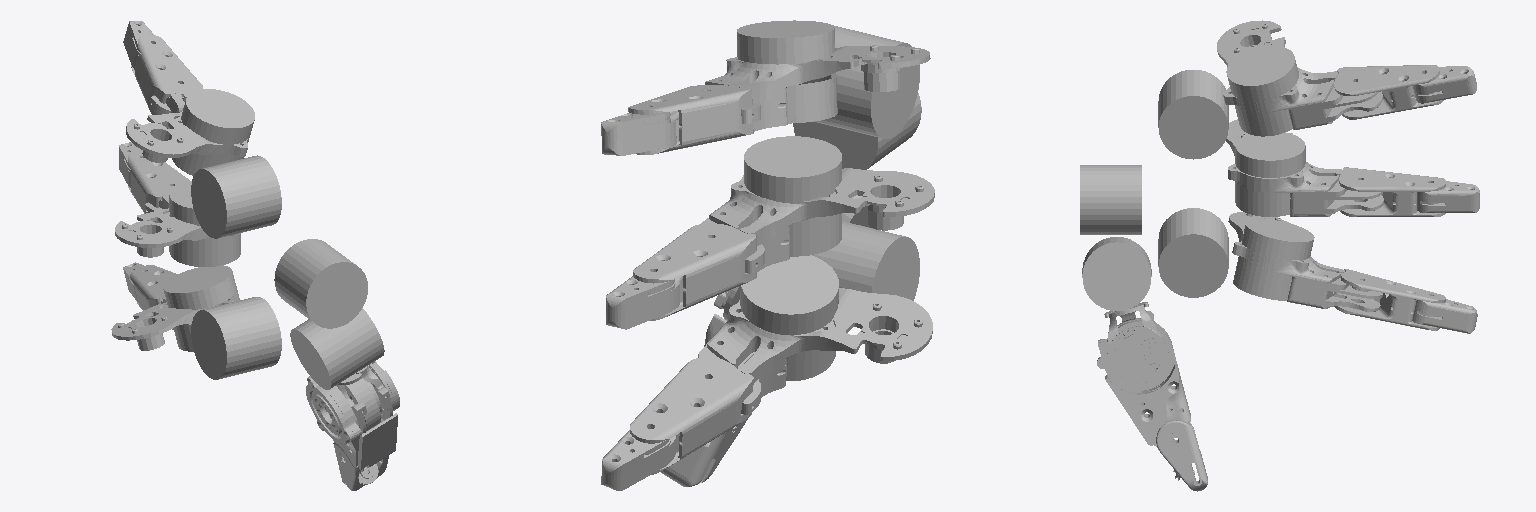
URDF robot description (FINGER_v5_sizing-assem_pitch12):
<?xml version="1.0" encoding="utf-8"?>
<!-- This URDF was automatically created by SolidWorks to URDF Exporter! Originally created by Stephen Brawner (brawner@gmail.com) 
     Commit Version: 1.6.0-1-g15f4949  Build Version: 1.6.7594.29634
     For more information, please see http://wiki.ros.org/sw_urdf_exporter -->
<robot
  name="FINGER_v5_sizing-assem_pitch12">
  <link
    name="base_link">
    <inertial>
      <origin
        xyz="0.00860105152306334 -0.0141519570694045 0.0296070737342074"
        rpy="0 0 0" />
      <mass
        value="1.7031857426844" />
      <inertia
        ixx="0.00637438121223653"
        ixy="0.000485242199718883"
        ixz="-0.000516263504126121"
        iyy="0.00350832245509312"
        iyz="0.000650475729843977"
        izz="0.00395278825365719" />
    </inertial>
  </link>
  <link
    name="Middle_proximal">
    <inertial>
      <origin
        xyz="-0.000981927267422038 -0.00118288474027885 -0.00409749525132446"
        rpy="0 0 0" />
      <mass
        value="0.288831010648449" />
      <inertia
        ixx="4.90009243554783E-05"
        ixy="1.20028398423529E-06"
        ixz="4.6645979238047E-06"
        iyy="5.89438072306371E-05"
        iyz="-1.28558082787641E-06"
        izz="4.76374927083885E-05" />
    </inertial>
    <visual>
      <origin
        xyz="0 0 0"
        rpy="0 0 0" />
      <geometry>
        <mesh
          filename="package://FINGER_v5_sizing-assem_pitch12/meshes/Middle_proximal.STL" />
      </geometry>
      <material
        name="">
        <color
          rgba="0.752941176470588 0.752941176470588 0.752941176470588 1" />
      </material>
    </visual>
    <collision>
      <origin
        xyz="0 0 0"
        rpy="0 0 0" />
      <geometry>
        <mesh
          filename="package://FINGER_v5_sizing-assem_pitch12/meshes/Middle_proximal.STL" />
      </geometry>
    </collision>
  </link>
  <joint
    name="joint_middle_mcp"
    type="continuous">
    <origin
      xyz="0 0 0"
      rpy="1.5707963267949 0 0" />
    <parent
      link="base_link" />
    <child
      link="Middle_proximal" />
    <axis
      xyz="0 -1 0" />
  </joint>
  <link
    name="Middle_intermediate">
    <inertial>
      <origin
        xyz="0.00109471851424856 -0.007615218584167 -0.015725407210472"
        rpy="0 0 0" />
      <mass
        value="0.0500860202087927" />
      <inertia
        ixx="7.12632885057636E-06"
        ixy="-1.13601974871047E-07"
        ixz="1.2183931010913E-06"
        iyy="8.73357675171187E-06"
        iyz="2.72022212475924E-07"
        izz="2.50619587983903E-06" />
    </inertial>
    <visual>
      <origin
        xyz="0 0 0"
        rpy="0 0 0" />
      <geometry>
        <mesh
          filename="package://FINGER_v5_sizing-assem_pitch12/meshes/Middle_intermediate.STL" />
      </geometry>
      <material
        name="">
        <color
          rgba="0.752941176470588 0.752941176470588 0.752941176470588 1" />
      </material>
    </visual>
    <collision>
      <origin
        xyz="0 0 0"
        rpy="0 0 0" />
      <geometry>
        <mesh
          filename="package://FINGER_v5_sizing-assem_pitch12/meshes/Middle_intermediate.STL" />
      </geometry>
    </collision>
  </link>
  <joint
    name="joint_middle_pip"
    type="continuous">
    <origin
      xyz="0.00525 0 -0.045"
      rpy="0 0 0" />
    <parent
      link="Middle_proximal" />
    <child
      link="Middle_intermediate" />
    <axis
      xyz="0 -1 0" />
  </joint>
  <link
    name="Middle_distal">
    <inertial>
      <origin
        xyz="0.00224835392808172 -0.00751920558965082 -0.00730424720410121"
        rpy="0 0 0" />
      <mass
        value="0.00400007586211099" />
      <inertia
        ixx="3.14335687984186E-07"
        ixy="-2.01111489431765E-10"
        ixz="4.17008720457605E-08"
        iyy="3.58210340684352E-07"
        iyz="-8.65736450908562E-10"
        izz="7.84068085780495E-08" />
    </inertial>
    <visual>
      <origin
        xyz="0 0 0"
        rpy="0 0 0" />
      <geometry>
        <mesh
          filename="package://FINGER_v5_sizing-assem_pitch12/meshes/Middle_distal.STL" />
      </geometry>
      <material
        name="">
        <color
          rgba="0.752941176470588 0.752941176470588 0.752941176470588 1" />
      </material>
    </visual>
    <collision>
      <origin
        xyz="0 0 0"
        rpy="0 0 0" />
      <geometry>
        <mesh
          filename="package://FINGER_v5_sizing-assem_pitch12/meshes/Middle_distal.STL" />
      </geometry>
    </collision>
  </link>
  <joint
    name="joint_middle_dip"
    type="continuous">
    <origin
      xyz="0.0035 0 -0.035"
      rpy="0 0 0" />
    <parent
      link="Middle_intermediate" />
    <child
      link="Middle_distal" />
    <axis
      xyz="0 -1 0" />
  </joint>
  <link name="Middle_empty_link"/>
  <joint
    name="joint_middle_tip"
    type="fixed">
    <origin
      xyz="0.00894408611145471 -0.007455932639021592 -0.022166606735296"
      rpy="3.14159265358979 0 0" />
    <parent
      link="Middle_distal" />
    <child
      link="Middle_empty_link" />
  </joint>  
  <link
    name="Index_aa-mcp">
    <inertial>
      <origin
        xyz="-0.00549999999999999 6.93889390390723E-18 -6.93889390390723E-18"
        rpy="0 0 0" />
      <mass
        value="0.229656313463639" />
      <inertia
        ixx="3.51661229991198E-05"
        ixy="-1.20381699579111E-37"
        ixz="0"
        iyy="3.5974704602773E-05"
        iyz="-1.34303183898664E-37"
        izz="3.5974704602773E-05" />
    </inertial>
    <visual>
      <origin
        xyz="0 0 0"
        rpy="0 0 0" />
      <geometry>
        <mesh
          filename="package://FINGER_v5_sizing-assem_pitch12/meshes/Index_aa-mcp.STL" />
      </geometry>
      <material
        name="">
        <color
          rgba="0.752941176470588 0.752941176470588 0.752941176470588 1" />
      </material>
    </visual>
    <collision>
      <origin
        xyz="0 0 0"
        rpy="0 0 0" />
      <geometry>
        <mesh
          filename="package://FINGER_v5_sizing-assem_pitch12/meshes/Index_aa-mcp.STL" />
      </geometry>
    </collision>
  </link>
  <joint
    name="joint_index_abad"
    type="continuous">
    <origin
      xyz="0 -0.03825 -0.0454"
      rpy="1.5708 0 0" />
    <parent
      link="base_link" />
    <child
      link="Index_aa-mcp" />
    <axis
      xyz="-1 0 0" />
  </joint>
  <link
    name="Index_proximal">
    <inertial>
      <origin
        xyz="-0.000186801820474308 0.00576118003666944 -0.0040974981064293"
        rpy="0 0 0" />
      <mass
        value="0.288831054681236" />
      <inertia
        ixx="4.90009306145828E-05"
        ixy="1.20028740222791E-06"
        ixz="4.6645967323778E-06"
        iyy="5.89438140958065E-05"
        iyz="-1.28557791631543E-06"
        izz="4.76374960597971E-05" />
    </inertial>
    <visual>
      <origin
        xyz="0 0 0"
        rpy="0 0 0" />
      <geometry>
        <mesh
          filename="package://FINGER_v5_sizing-assem_pitch12/meshes/Index_proximal.STL" />
      </geometry>
      <material
        name="">
        <color
          rgba="0.752941176470588 0.752941176470588 0.752941176470588 1" />
      </material>
    </visual>
    <collision>
      <origin
        xyz="0 0 0"
        rpy="0 0 0" />
      <geometry>
        <mesh
          filename="package://FINGER_v5_sizing-assem_pitch12/meshes/Index_proximal.STL" />
      </geometry>
    </collision>
  </link>
  <joint
    name="joint_index_mcp"
    type="continuous">
    <origin
      xyz="0.0010063 -0.0080134 -0.038467"
      rpy="-0.20684 0.013708 0.15765" />
    <parent
      link="Index_aa-mcp" />
    <child
      link="Index_proximal" />
    <axis
      xyz="0 -1 0" />
  </joint>
  <link
    name="Index_intermediate">
    <inertial>
      <origin
        xyz="-0.000155281449584964 -0.000671138519678371 -0.0157253762240998"
        rpy="0 0 0" />
      <mass
        value="0.0500857495081431" />
      <inertia
        ixx="7.12627940568398E-06"
        ixy="-1.13605887215094E-07"
        ixz="1.21838733953495E-06"
        iyy="8.73354651778297E-06"
        iyz="2.72021285749039E-07"
        izz="2.50620136401079E-06" />
    </inertial>
    <visual>
      <origin
        xyz="0 0 0"
        rpy="0 0 0" />
      <geometry>
        <mesh
          filename="package://FINGER_v5_sizing-assem_pitch12/meshes/Index_intermediate.STL" />
      </geometry>
      <material
        name="">
        <color
          rgba="0.752941176470588 0.752941176470588 0.752941176470588 1" />
      </material>
    </visual>
    <collision>
      <origin
        xyz="0 0 0"
        rpy="0 0 0" />
      <geometry>
        <mesh
          filename="package://FINGER_v5_sizing-assem_pitch12/meshes/Index_intermediate.STL" />
      </geometry>
    </collision>
  </link>
  <joint
    name="joint_index_pip"
    type="continuous">
    <origin
      xyz="0.0065 0 -0.045"
      rpy="0 0 0" />
    <parent
      link="Index_proximal" />
    <child
      link="Index_intermediate" />
    <axis
      xyz="0 -1 0" />
  </joint>
  <link
    name="Index_distal">
    <inertial>
      <origin
        xyz="0.000998357047771771 -0.000575143964769431 -0.0073042485641565"
        rpy="0 0 0" />
      <mass
        value="0.00400007550058822" />
      <inertia
        ixx="3.14335559068873E-07"
        ixy="-2.01049226487287E-10"
        ixz="4.17009165876003E-08"
        iyy="3.58210408523272E-07"
        iyz="-8.65755967650734E-10"
        izz="7.84068752499178E-08" />
    </inertial>
    <visual>
      <origin
        xyz="0 0 0"
        rpy="0 0 0" />
      <geometry>
        <mesh
          filename="package://FINGER_v5_sizing-assem_pitch12/meshes/Index_distal.STL" />
      </geometry>
      <material
        name="">
        <color
          rgba="0.752941176470588 0.752941176470588 0.752941176470588 1" />
      </material>
    </visual>
    <collision>
      <origin
        xyz="0 0 0"
        rpy="0 0 0" />
      <geometry>
        <mesh
          filename="package://FINGER_v5_sizing-assem_pitch12/meshes/Index_distal.STL" />
      </geometry>
    </collision>
  </link>
  <joint
    name="joint_index_dip"
    type="continuous">
    <origin
      xyz="0.0035 0 -0.035"
      rpy="0 0 0" />
    <parent
      link="Index_intermediate" />
    <child
      link="Index_distal" />
    <axis
      xyz="0 -1 0" />
  </joint>
  <link name="Index_empty_link"/>
  <joint
    name="joint_index_tip"
    type="fixed">
    <origin
      xyz="0.00694408611145471 -0.000455932639021592 -0.022166606735296"
      rpy="3.14159265358979 0 0" />
    <parent
      link="Index_distal" />
    <child
      link="Index_empty_link" />
  </joint>
  <link
    name="Ring_aa-mcp">
    <inertial>
      <origin
        xyz="-0.00549999999999999 0 -6.93889390390723E-18"
        rpy="0 0 0" />
      <mass
        value="0.229656313463639" />
      <inertia
        ixx="3.51661229991198E-05"
        ixy="-1.20381699579111E-37"
        ixz="0"
        iyy="3.5974704602773E-05"
        iyz="-1.34303183898664E-37"
        izz="3.5974704602773E-05" />
    </inertial>
    <visual>
      <origin
        xyz="0 0 0"
        rpy="0 0 0" />
      <geometry>
        <mesh
          filename="package://FINGER_v5_sizing-assem_pitch12/meshes/Ring_aa-mcp.STL" />
      </geometry>
      <material
        name="">
        <color
          rgba="0.752941176470588 0.752941176470588 0.752941176470588 1" />
      </material>
    </visual>
    <collision>
      <origin
        xyz="0 0 0"
        rpy="0 0 0" />
      <geometry>
        <mesh
          filename="package://FINGER_v5_sizing-assem_pitch12/meshes/Ring_aa-mcp.STL" />
      </geometry>
    </collision>
  </link>
  <joint
    name="joint_ring_abad"
    type="continuous">
    <origin
      xyz="0 -0.03825 0.0306"
      rpy="1.5708 0 0" />
    <parent
      link="base_link" />
    <child
      link="Ring_aa-mcp" />
    <axis
      xyz="1 0 0" />
  </joint>
  <link
    name="Ring_proximal">
    <inertial>
      <origin
        xyz="-0.000186802984341679 0.00787304798055018 -0.00409749583481214"
        rpy="0 0 0" />
      <mass
        value="0.288830999940464" />
      <inertia
        ixx="4.90009198625242E-05"
        ixy="1.20028265137785E-06"
        ixz="4.66459557895379E-06"
        iyy="5.89438026556999E-05"
        iyz="-1.28558062048071E-06"
        izz="4.76374913045715E-05" />
    </inertial>
    <visual>
      <origin
        xyz="0 0 0"
        rpy="0 0 0" />
      <geometry>
        <mesh
          filename="package://FINGER_v5_sizing-assem_pitch12/meshes/Ring_proximal.STL" />
      </geometry>
      <material
        name="">
        <color
          rgba="0.752941176470588 0.752941176470588 0.752941176470588 1" />
      </material>
    </visual>
    <collision>
      <origin
        xyz="0 0 0"
        rpy="0 0 0" />
      <geometry>
        <mesh
          filename="package://FINGER_v5_sizing-assem_pitch12/meshes/Ring_proximal.STL" />
      </geometry>
    </collision>
  </link>
  <joint
    name="joint_ring_mcp"
    type="continuous">
    <origin
      xyz="0.0010063 0.0080134 -0.038467"
      rpy="0.20684 0.013708 -0.15765" />
    <parent
      link="Ring_aa-mcp" />
    <child
      link="Ring_proximal" />
    <axis
      xyz="0 -1 0" />
  </joint>
  <link
    name="Ring_intermediate">
    <inertial>
      <origin
        xyz="-0.000155281943769873 0.0014407348367643 -0.0157253618712702"
        rpy="0 0 0" />
      <mass
        value="0.0500856769025358" />
      <inertia
        ixx="7.1262676018086E-06"
        ixy="-1.1360763130753E-07"
        ixz="1.21838316786941E-06"
        iyy="8.73353773290069E-06"
        iyz="2.72022495576507E-07"
        izz="2.50620048939057E-06" />
    </inertial>
    <visual>
      <origin
        xyz="0 0 0"
        rpy="0 0 0" />
      <geometry>
        <mesh
          filename="package://FINGER_v5_sizing-assem_pitch12/meshes/Ring_intermediate.STL" />
      </geometry>
      <material
        name="">
        <color
          rgba="0.752941176470588 0.752941176470588 0.752941176470588 1" />
      </material>
    </visual>
    <collision>
      <origin
        xyz="0 0 0"
        rpy="0 0 0" />
      <geometry>
        <mesh
          filename="package://FINGER_v5_sizing-assem_pitch12/meshes/Ring_intermediate.STL" />
      </geometry>
    </collision>
  </link>
  <joint
    name="joint_ring_pip"
    type="continuous">
    <origin
      xyz="0.0065 0 -0.045"
      rpy="0 0 0" />
    <parent
      link="Ring_proximal" />
    <child
      link="Ring_intermediate" />
    <axis
      xyz="0 -1 0" />
  </joint>
  <link
    name="Ring_distal">
    <inertial>
      <origin
        xyz="0.000998352572938415 0.00153673129024125 -0.00730424773483374"
        rpy="0 0 0" />
      <mass
        value="0.00400007580283605" />
      <inertia
        ixx="3.14335653380412E-07"
        ixy="-2.01161713675385E-10"
        ixz="4.17008706371233E-08"
        iyy="3.58210226279045E-07"
        iyz="-8.65731928950345E-10"
        izz="7.84067883048751E-08" />
    </inertial>
    <visual>
      <origin
        xyz="0 0 0"
        rpy="0 0 0" />
      <geometry>
        <mesh
          filename="package://FINGER_v5_sizing-assem_pitch12/meshes/Ring_distal.STL" />
      </geometry>
      <material
        name="">
        <color
          rgba="0.752941176470588 0.752941176470588 0.752941176470588 1" />
      </material>
    </visual>
    <collision>
      <origin
        xyz="0 0 0"
        rpy="0 0 0" />
      <geometry>
        <mesh
          filename="package://FINGER_v5_sizing-assem_pitch12/meshes/Ring_distal.STL" />
      </geometry>
    </collision>
  </link>
  <joint
    name="joint_ring_dip"
    type="continuous">
    <origin
      xyz="0.0035 0 -0.035"
      rpy="0 0 0" />
    <parent
      link="Ring_intermediate" />
    <child
      link="Ring_distal" />
    <axis
      xyz="0 -1 0" />
  </joint>
  <link
    name="Thumb_metacarpal">
    <inertial>
      <origin
        xyz="0 0 0.0155"
        rpy="0 0 0" />
      <mass
        value="0.229656313463639" />
      <inertia
        ixx="3.5974704602773E-05"
        ixy="6.82502035984864E-38"
        ixz="0"
        iyy="3.5974704602773E-05"
        iyz="-1.325874975781E-37"
        izz="3.51661229991198E-05" />
    </inertial>
    <visual>
      <origin
        xyz="0 0 0"
        rpy="0 0 0" />
      <geometry>
        <mesh
          filename="package://FINGER_v5_sizing-assem_pitch12/meshes/Thumb_metacarpal.STL" />
      </geometry>
      <material
        name="">
        <color
          rgba="0.752941176470588 0.752941176470588 0.752941176470588 1" />
      </material>
    </visual>
    <collision>
      <origin
        xyz="0 0 0"
        rpy="0 0 0" />
      <geometry>
        <mesh
          filename="package://FINGER_v5_sizing-assem_pitch12/meshes/Thumb_metacarpal.STL" />
      </geometry>
    </collision>
  </link>
  <link name="Ring_empty_link"/>
  <joint
    name="joint_ring_tip"
    type="fixed">
    <origin
      xyz="0.00694408611145471 -0.000455932639021592 -0.022166606735296"
      rpy="3.14159265358979 0 0" />
    <parent
      link="Ring_distal" />
    <child
      link="Ring_empty_link" />
  </joint>
  <joint
    name="joint_thumb_yaw"
    type="continuous">
    <origin
      xyz="0.0185 -0.064 -0.005"
      rpy="1.5708 0 0" />
    <parent
      link="base_link" />
    <child
      link="Thumb_metacarpal" />
    <axis
      xyz="0 0 1" />
  </joint>
  <link
    name="Thumb_roll-pitch1">
    <inertial>
      <origin
        xyz="-0.00187938524157176 -0.000684040286651318 1.38777878078145E-17"
        rpy="0 0 0" />
      <mass
        value="0.230339688405611" />
      <inertia
        ixx="3.45650739385213E-05"
        ixy="-8.10085949798749E-07"
        ixz="-3.31977292561599E-21"
        iyy="3.64959196204868E-05"
        iyz="-1.20829852944705E-21"
        izz="3.67907667934108E-05" />
    </inertial>
    <visual>
      <origin
        xyz="0 0 0"
        rpy="0 0 0" />
      <geometry>
        <mesh
          filename="package://FINGER_v5_sizing-assem_pitch12/meshes/Thumb_roll-pitch1.STL" />
      </geometry>
      <material
        name="">
        <color
          rgba="0.752941176470588 0.752941176470588 0.752941176470588 1" />
      </material>
    </visual>
    <collision>
      <origin
        xyz="0 0 0"
        rpy="0 0 0" />
      <geometry>
        <mesh
          filename="package://FINGER_v5_sizing-assem_pitch12/meshes/Thumb_roll-pitch1.STL" />
      </geometry>
    </collision>
  </link>
  <joint
    name="joint_thumb_pitch1"
    type="continuous">
    <origin
      xyz="0.012748 -0.035026 0.012395"
      rpy="0 0 0" />
    <parent
      link="Thumb_metacarpal" />
    <child
      link="Thumb_roll-pitch1" />
    <axis
      xyz="0.93969 0.34202 0" />
  </joint>
  <link
    name="Thumb_proximal">
    <inertial>
      <origin
        xyz="0.0096980306049259 0.000436273754811339 -0.00339432925892027"
        rpy="0 0 0" />
      <mass
        value="0.0889794932922681" />
      <inertia
        ixx="7.84280142150119E-06"
        ixy="-4.10603056694893E-07"
        ixz="-2.27286890167128E-07"
        iyy="9.87701168768263E-06"
        iyz="-1.06565571035376E-07"
        izz="1.65732235650426E-05" />
    </inertial>
    <visual>
      <origin
        xyz="0 0 0"
        rpy="0 0 0" />
      <geometry>
        <mesh
          filename="package://FINGER_v5_sizing-assem_pitch12/meshes/Thumb_proximal.STL" />
      </geometry>
      <material
        name="">
        <color
          rgba="0.752941176470588 0.752941176470588 0.752941176470588 1" />
      </material>
    </visual>
    <collision>
      <origin
        xyz="0 0 0"
        rpy="0 0 0" />
      <geometry>
        <mesh
          filename="package://FINGER_v5_sizing-assem_pitch12/meshes/Thumb_proximal.STL" />
      </geometry>
    </collision>
  </link>
  <joint
    name="joint_thumb_pitch2"
    type="continuous">
    <origin
      xyz="0.013875 -0.038122 -0.01087"
      rpy="-1.5708 0.2618 -1.2217" />
    <parent
      link="Thumb_roll-pitch1" />
    <child
      link="Thumb_proximal" />
    <axis
      xyz="0 0 1" />
  </joint>
  <link
    name="Thumb_distal">
    <inertial>
      <origin
        xyz="0.00698298961607866 0.0012926713206233 0.000617041354604532"
        rpy="0 0 0" />
      <mass
        value="0.0100644223118035" />
      <inertia
        ixx="4.35167379331713E-07"
        ixy="-8.45054364536635E-08"
        ixz="2.72838640605233E-08"
        iyy="8.02925678042746E-07"
        iyz="1.51396012047487E-09"
        izz="7.01727520400499E-07" />
    </inertial>
    <visual>
      <origin
        xyz="0 0 0"
        rpy="0 0 0" />
      <geometry>
        <mesh
          filename="package://FINGER_v5_sizing-assem_pitch12/meshes/Thumb_distal.STL" />
      </geometry>
      <material
        name="">
        <color
          rgba="0.752941176470588 0.752941176470588 0.752941176470588 1" />
      </material>
    </visual>
    <collision>
      <origin
        xyz="0 0 0"
        rpy="0 0 0" />
      <geometry>
        <mesh
          filename="package://FINGER_v5_sizing-assem_pitch12/meshes/Thumb_distal.STL" />
      </geometry>
    </collision>
  </link>
  <joint
    name="Joint_thumb_ip"
    type="continuous">
    <origin
      xyz="0.045 0.00725 0"
      rpy="0 0 0" />
    <parent
      link="Thumb_proximal" />
    <child
      link="Thumb_distal" />
    <axis
      xyz="0 0 1" />
  </joint>
  <link name="Thumb_empty_link"/>
  <joint
    name="joint_thumb_tip"
    type="fixed">
    <origin
      xyz="0.025 0.01 -0.0"
      rpy="0 0 0" />
    <parent
      link="Thumb_distal" />
    <child
      link="Thumb_empty_link" />
  </joint>

</robot>

--- Render facts (derived) ---
The picture shows the robot from 3 angles, left to right: view 1: azimuth 30°, elevation 25°; view 2: azimuth 150°, elevation 25°; view 3: azimuth 270°, elevation 25°; orthographic projection.
Model FINGER_v5_sizing-assem_pitch12 with 20 links and 19 joints (15 continuous, 4 fixed), rooted at base_link, posed all joints at 0.
Visible links, largest first — view 1: Ring_proximal, Thumb_proximal, Thumb_metacarpal, Ring_aa-mcp, Index_aa-mcp, Middle_proximal, Index_proximal, Thumb_roll-pitch1, Ring_intermediate, Middle_intermediate, Index_intermediate, Thumb_distal (+1 smaller); view 2: Index_proximal, Middle_proximal, Ring_proximal, Index_intermediate, Middle_intermediate, Index_aa-mcp, Ring_aa-mcp, Ring_intermediate, Thumb_metacarpal, Middle_distal, Index_distal, Ring_distal (+2 smaller); view 3: Ring_proximal, Middle_proximal, Index_proximal, Thumb_proximal, Index_aa-mcp, Ring_aa-mcp, Thumb_metacarpal, Thumb_roll-pitch1, Ring_intermediate, Middle_intermediate, Index_intermediate, Thumb_distal (+3 smaller).
Boxes of the visible links, x1,y1,x2,y2 form: Ring_proximal: (126,89,254,175); Thumb_proximal: (306,361,399,469); Thumb_metacarpal: (274,239,367,328); Ring_aa-mcp: (191,155,281,238); Index_aa-mcp: (191,297,281,379); Middle_proximal: (115,181,240,266); Index_proximal: (111,265,239,351); Thumb_roll-pitch1: (290,308,384,389); Ring_intermediate: (131,34,202,114); Middle_intermediate: (128,151,189,213); Index_intermediate: (130,265,176,310); Thumb_distal: (333,442,388,490); Index_proximal: (698,255,932,414); Middle_proximal: (701,136,934,273); Ring_proximal: (705,20,930,131); Index_intermediate: (630,357,753,474); Middle_intermediate: (633,223,756,320); Index_aa-mcp: (812,221,919,300); Ring_aa-mcp: (814,25,919,138); Ring_intermediate: (628,85,753,154); Thumb_metacarpal: (793,93,921,169); Middle_distal: (606,276,679,329); Index_distal: (601,428,675,490); Ring_distal: (601,112,676,155); Ring_proximal: (1217,20,1382,136); Middle_proximal: (1226,119,1383,216); Index_proximal: (1228,212,1382,311); Thumb_proximal: (1097,302,1190,446); Index_aa-mcp: (1158,208,1228,297); Ring_aa-mcp: (1158,70,1228,159); Thumb_metacarpal: (1080,165,1141,234); Thumb_roll-pitch1: (1082,237,1151,310); Ring_intermediate: (1334,65,1443,119); Middle_intermediate: (1339,167,1445,216); Index_intermediate: (1334,269,1445,330); Thumb_distal: (1156,420,1207,491).
Bounding box of the posed robot: 0.1305 × 0.1995 × 0.2101 m (x, y, z).
15 mesh visuals loaded from 15 distinct referenced files (15 binary STL).
